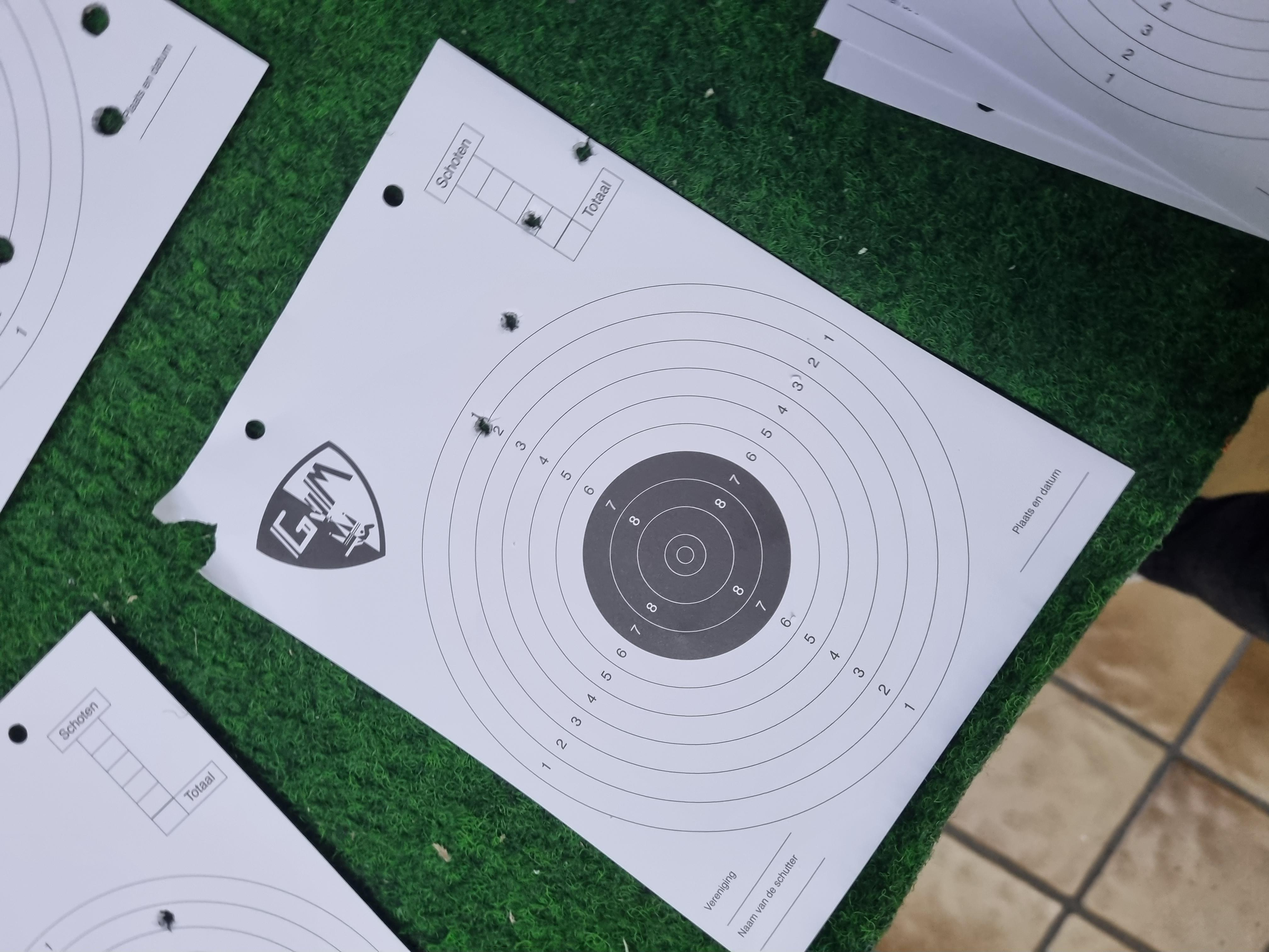hole: (186, 504, 222, 524), (412, 558, 445, 579), (550, 579, 582, 598), (284, 544, 311, 561)
